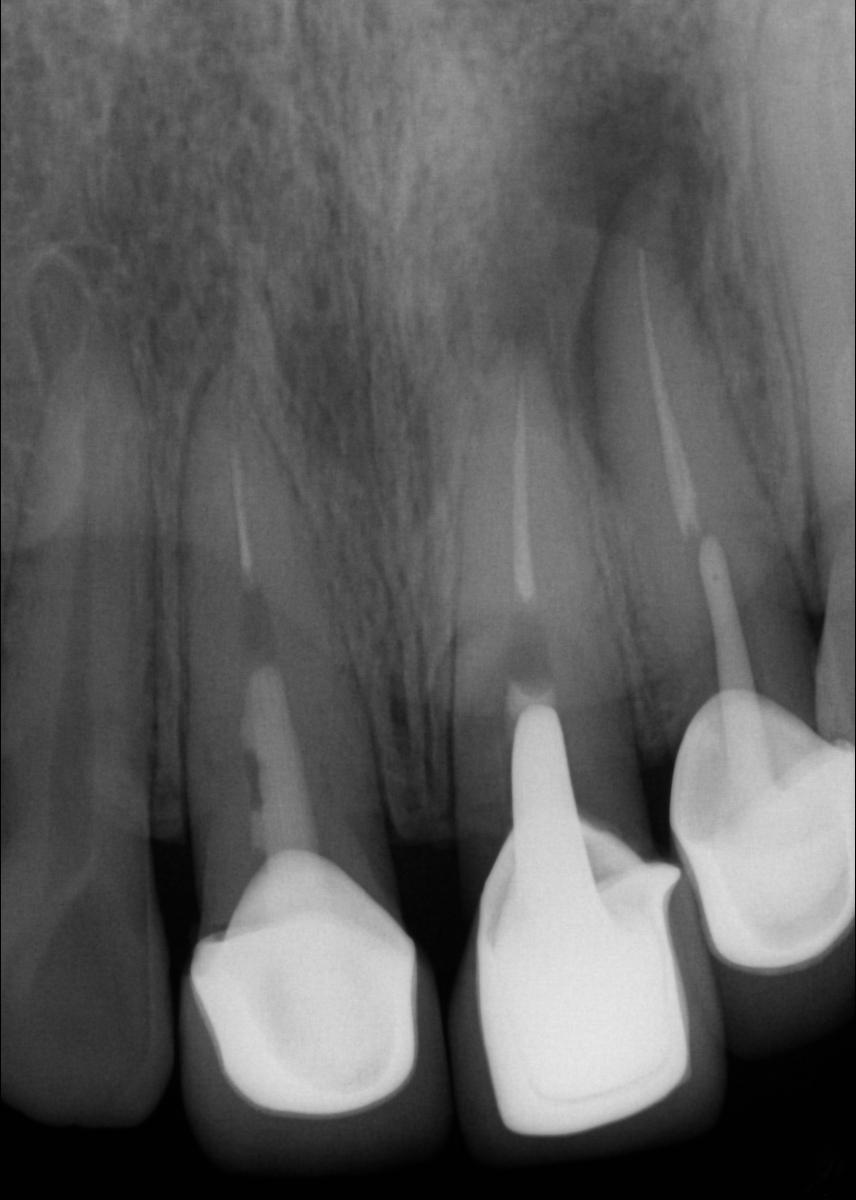Furcation Involvement: (500, 63, 722, 486)
